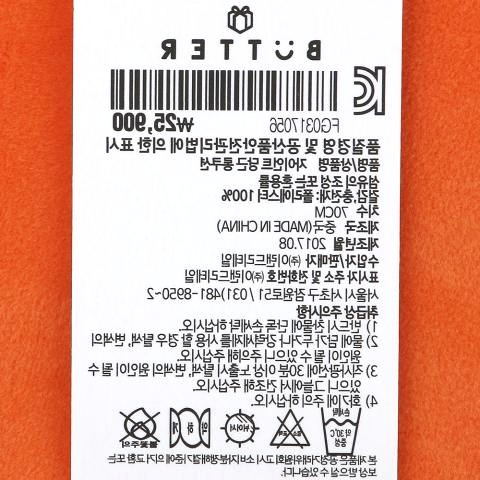dry_flat_in_shade: (221, 409, 259, 450)
hand_wash: (315, 406, 362, 457)
non_chlorine_bleach: (267, 404, 311, 452)
wring: (159, 401, 216, 450)
